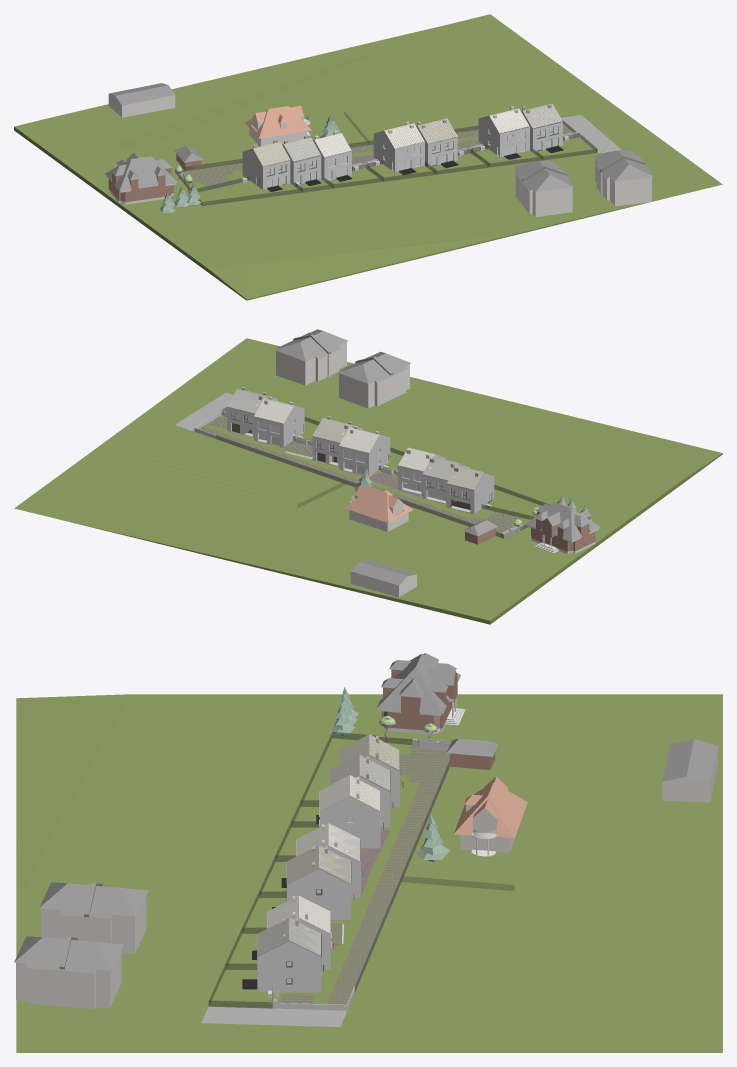
File: bor2-zewnetrze.glb
3 renders of one model, top to bottom at view 1: azimuth 30°, elevation 25°; view 2: azimuth 150°, elevation 25°; view 3: azimuth 270°, elevation 25°, orthographic. The views are drawn at different scales.
Visible parts, largest first — view 1: Group#2, podłoże, Group#5, Component#7.003, Component#7.001, domki__Component#94, domki__Component#57, Group#3, domki__Component#40, Group#4, domki__Component#88, domki__Component#119 (+7 smaller); view 2: Group#2, podłoże, Group#5, Component#7, Component#7.002, domki__Component#57, Group#3, domki__Component#94, domki__drobne, domki__Component#40, Group#4, domki__Component#88 (+6 smaller); view 3: Group#2, podłoże, Group#5, domki__Component#88, Group#3, Component#7.002, domki__Component#119, Component#7, domki__Component#35, Component#7.003, Group#4, domki__drobne (+7 smaller).
Part boxes in pixels (x1,y1,x2,y2): Group#2: (14, 14, 722, 300); podłoże: (182, 115, 621, 206); Group#5: (105, 152, 177, 204); Component#7.003: (600, 156, 653, 206); Component#7.001: (521, 166, 573, 217); domki__Component#94: (373, 121, 424, 174); domki__Component#57: (478, 106, 529, 159); Group#3: (245, 106, 311, 146); domki__Component#40: (242, 139, 290, 191); Group#4: (108, 83, 175, 117); domki__Component#88: (521, 103, 563, 153); domki__Component#119: (416, 118, 458, 167); Group#2: (14, 338, 722, 624); podłoże: (175, 392, 550, 537); Group#5: (525, 502, 600, 553); Component#7: (337, 357, 391, 408); Component#7.002: (275, 335, 329, 385); domki__Component#57: (253, 396, 304, 447); Group#3: (344, 485, 413, 531); domki__Component#94: (339, 426, 390, 476); domki__drobne: (194, 410, 527, 538); domki__Component#40: (446, 465, 494, 513); Group#4: (350, 560, 416, 597); domki__Component#88: (226, 387, 470, 513); Group#2: (16, 694, 722, 1052); podłoże: (201, 732, 449, 1027); Group#5: (376, 653, 465, 734); domki__Component#88: (242, 781, 403, 992); Group#3: (454, 776, 527, 856); Component#7.002: (62, 937, 123, 1009); domki__Component#119: (272, 845, 351, 919); Component#7: (86, 883, 148, 954); domki__Component#35: (319, 775, 380, 848); Component#7.003: (14, 936, 68, 1006); Group#4: (662, 739, 718, 802); domki__drobne: (268, 737, 513, 1010).
Size of the model in its own units: 131 by 19.44 by 110.
32 materials, 11 textured.
